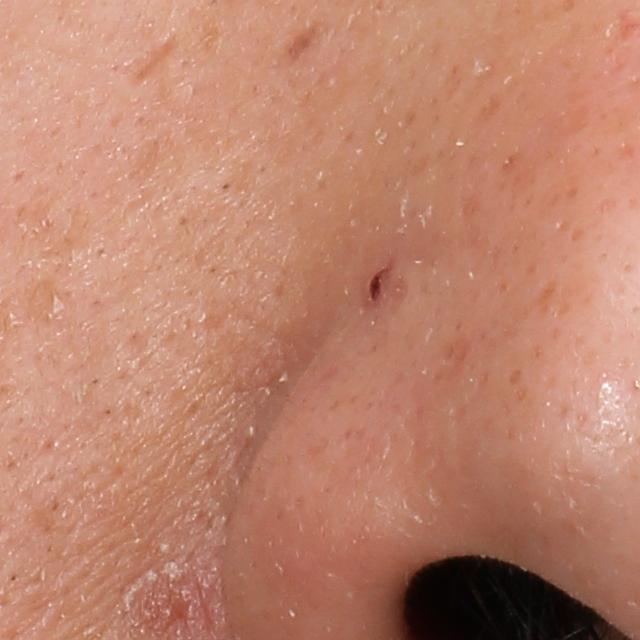atrophic_scar: (122, 36, 183, 102)
papule: (358, 256, 407, 311)
